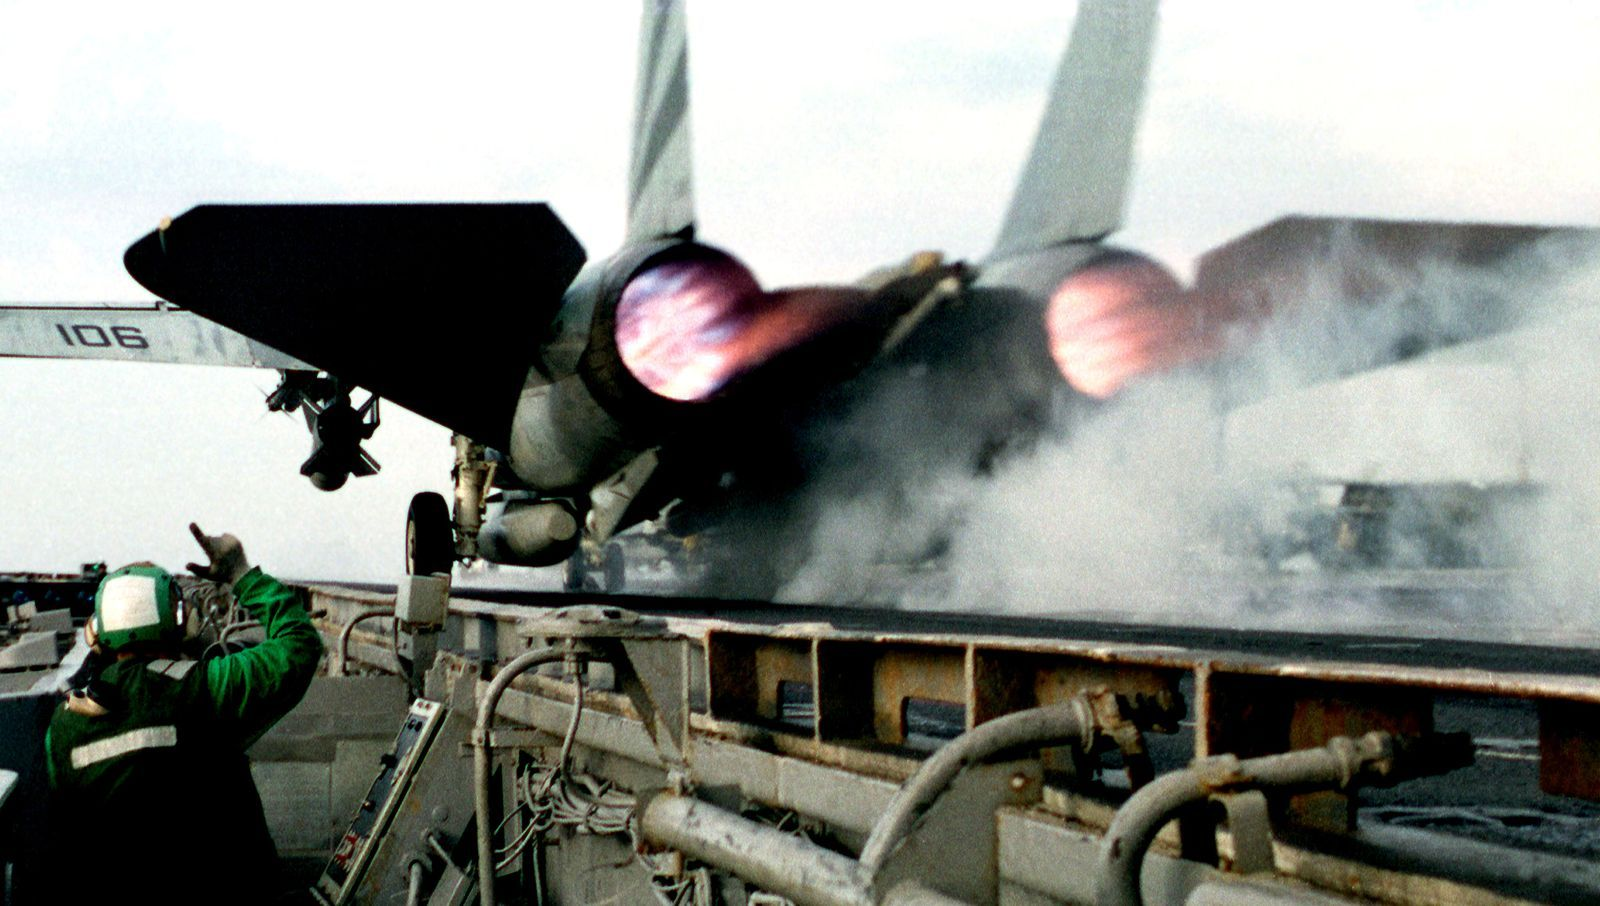F14: (1, 1, 1600, 595)
